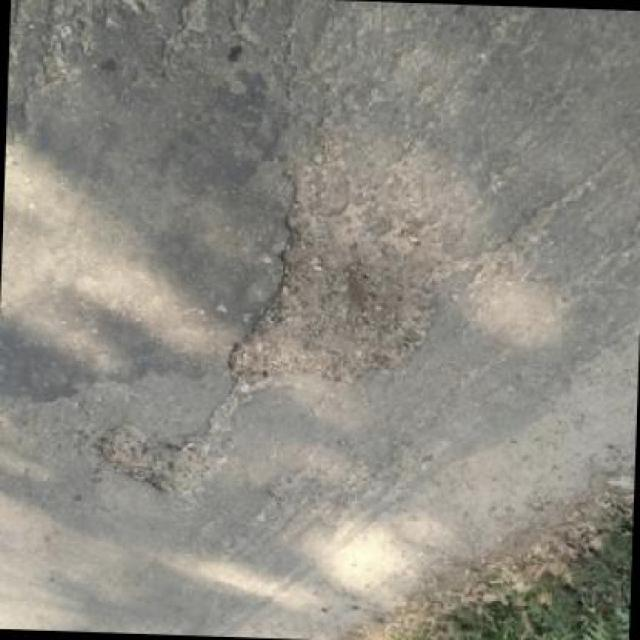pothole1: (223, 192, 452, 398), (91, 426, 220, 508)
